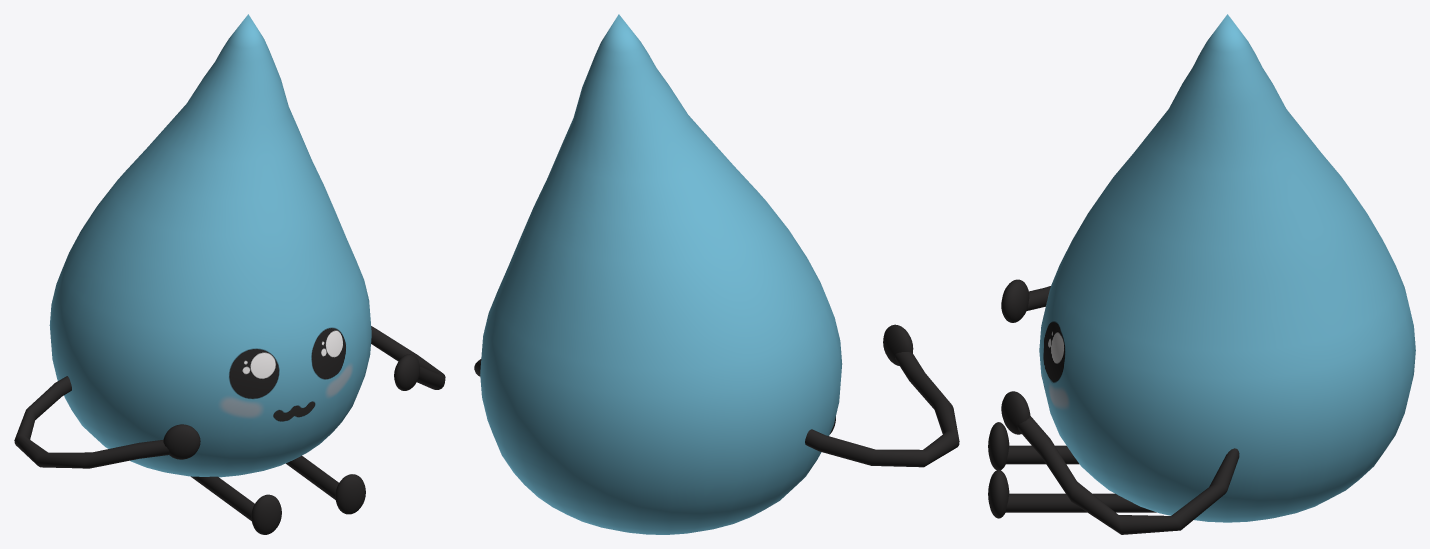
Rendered from water.glb.
3 renders of one model, left to right at view 1: azimuth 30°, elevation 25°; view 2: azimuth 150°, elevation 25°; view 3: azimuth 270°, elevation 25°, orthographic. The views are drawn at different scales.
Visible parts, largest first — view 1: Sphere; view 2: Sphere; view 3: Sphere.
Part boxes in pixels (left/top/right/bottom): Sphere: left=14, top=14, right=445, bottom=534; Sphere: left=474, top=14, right=959, bottom=534; Sphere: left=988, top=14, right=1415, bottom=534.
Size of the model in its own units: 2.93 by 2.96 by 2.27.
Materials: 1 (1 with a texture image).
